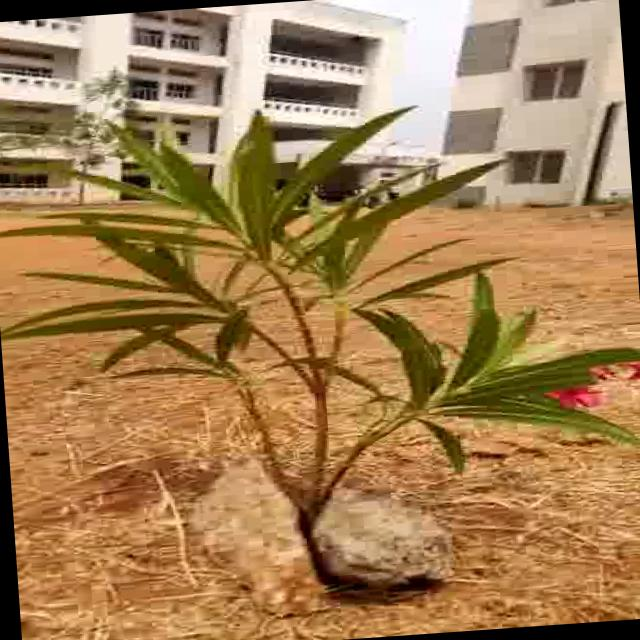Oleander: (63, 96, 640, 507)
